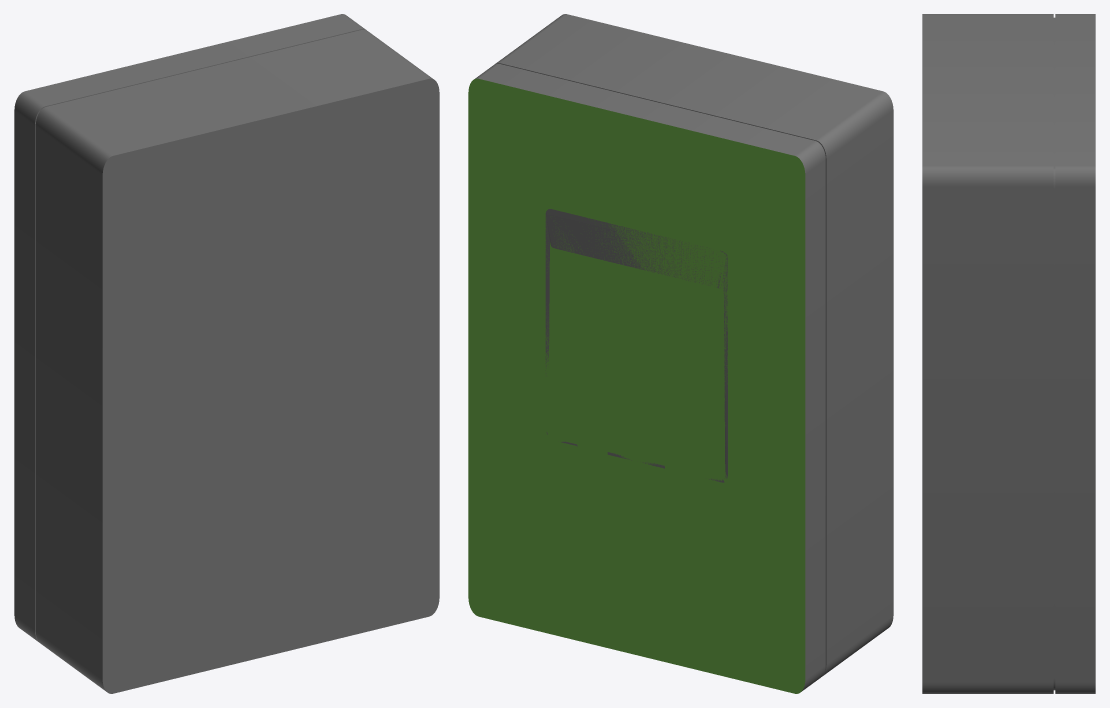
The model's file is Linky.fbx.
The picture shows the model from 3 angles, left to right: view 1: azimuth 30°, elevation 25°; view 2: azimuth 150°, elevation 25°; view 3: azimuth 270°, elevation 25°; orthographic projection.
Parts seen in each view (by area): view 1: Cube.001; view 2: Cube.001; view 3: Cube.001.
Boxes of the visible parts, box(x1,y1,x2,y2) form: Cube.001: box(14, 14, 439, 693); Cube.001: box(468, 14, 893, 693); Cube.001: box(922, 14, 1095, 693).
Size of the model in its own units: 131 by 200 by 59.49.
